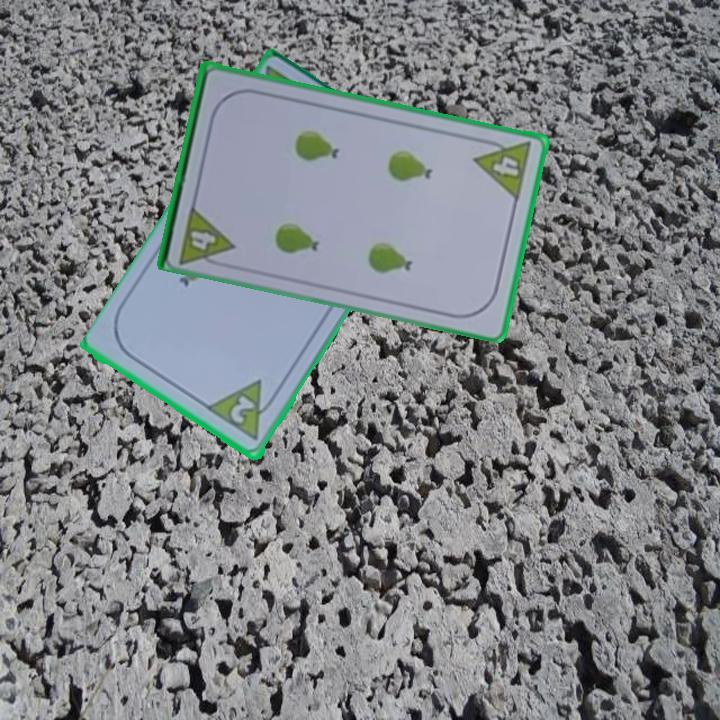2p: (226, 392, 259, 428)
4p: (471, 133, 534, 203), (176, 201, 237, 271)
